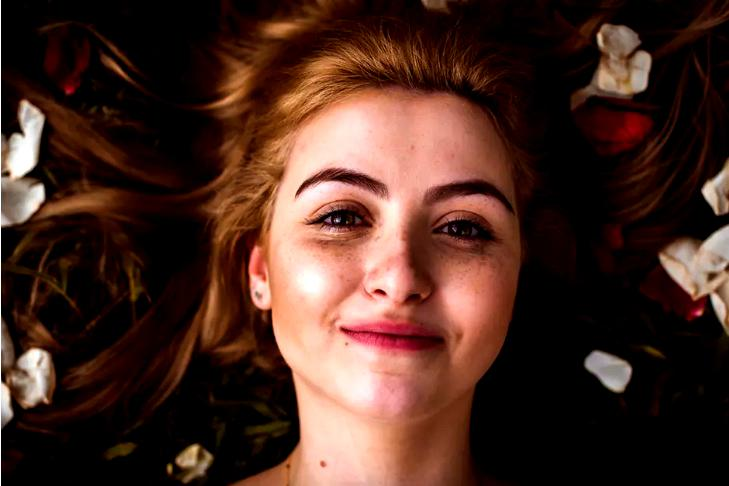face: (272, 90, 513, 421)
